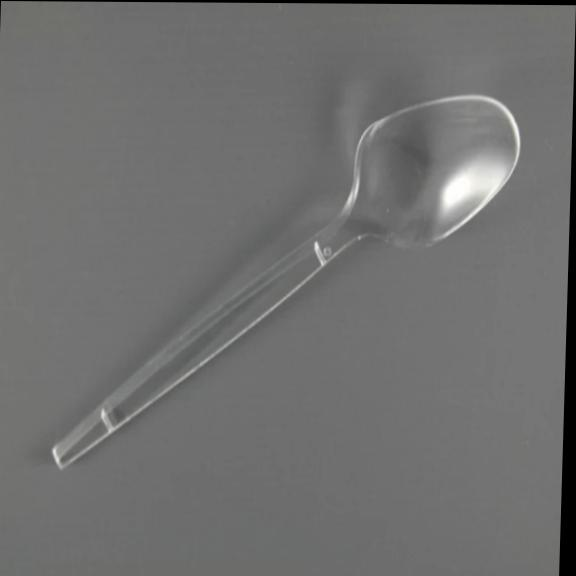Plastik: (52, 95, 518, 467)
